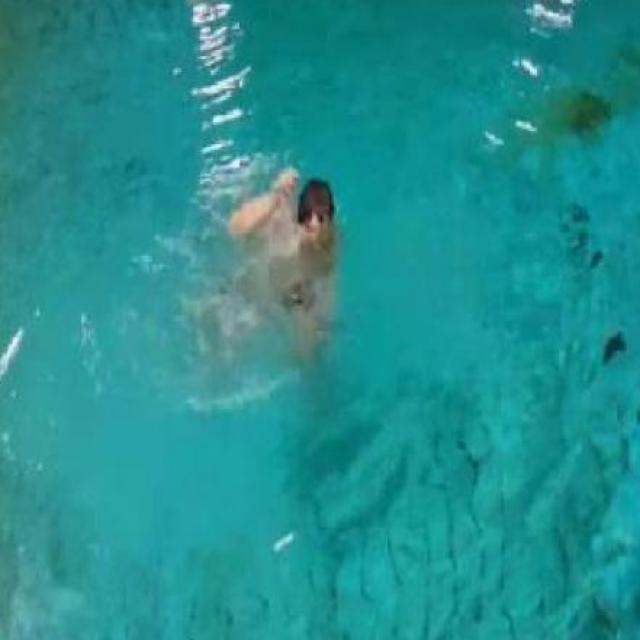Drowning: (222, 156, 349, 348)
